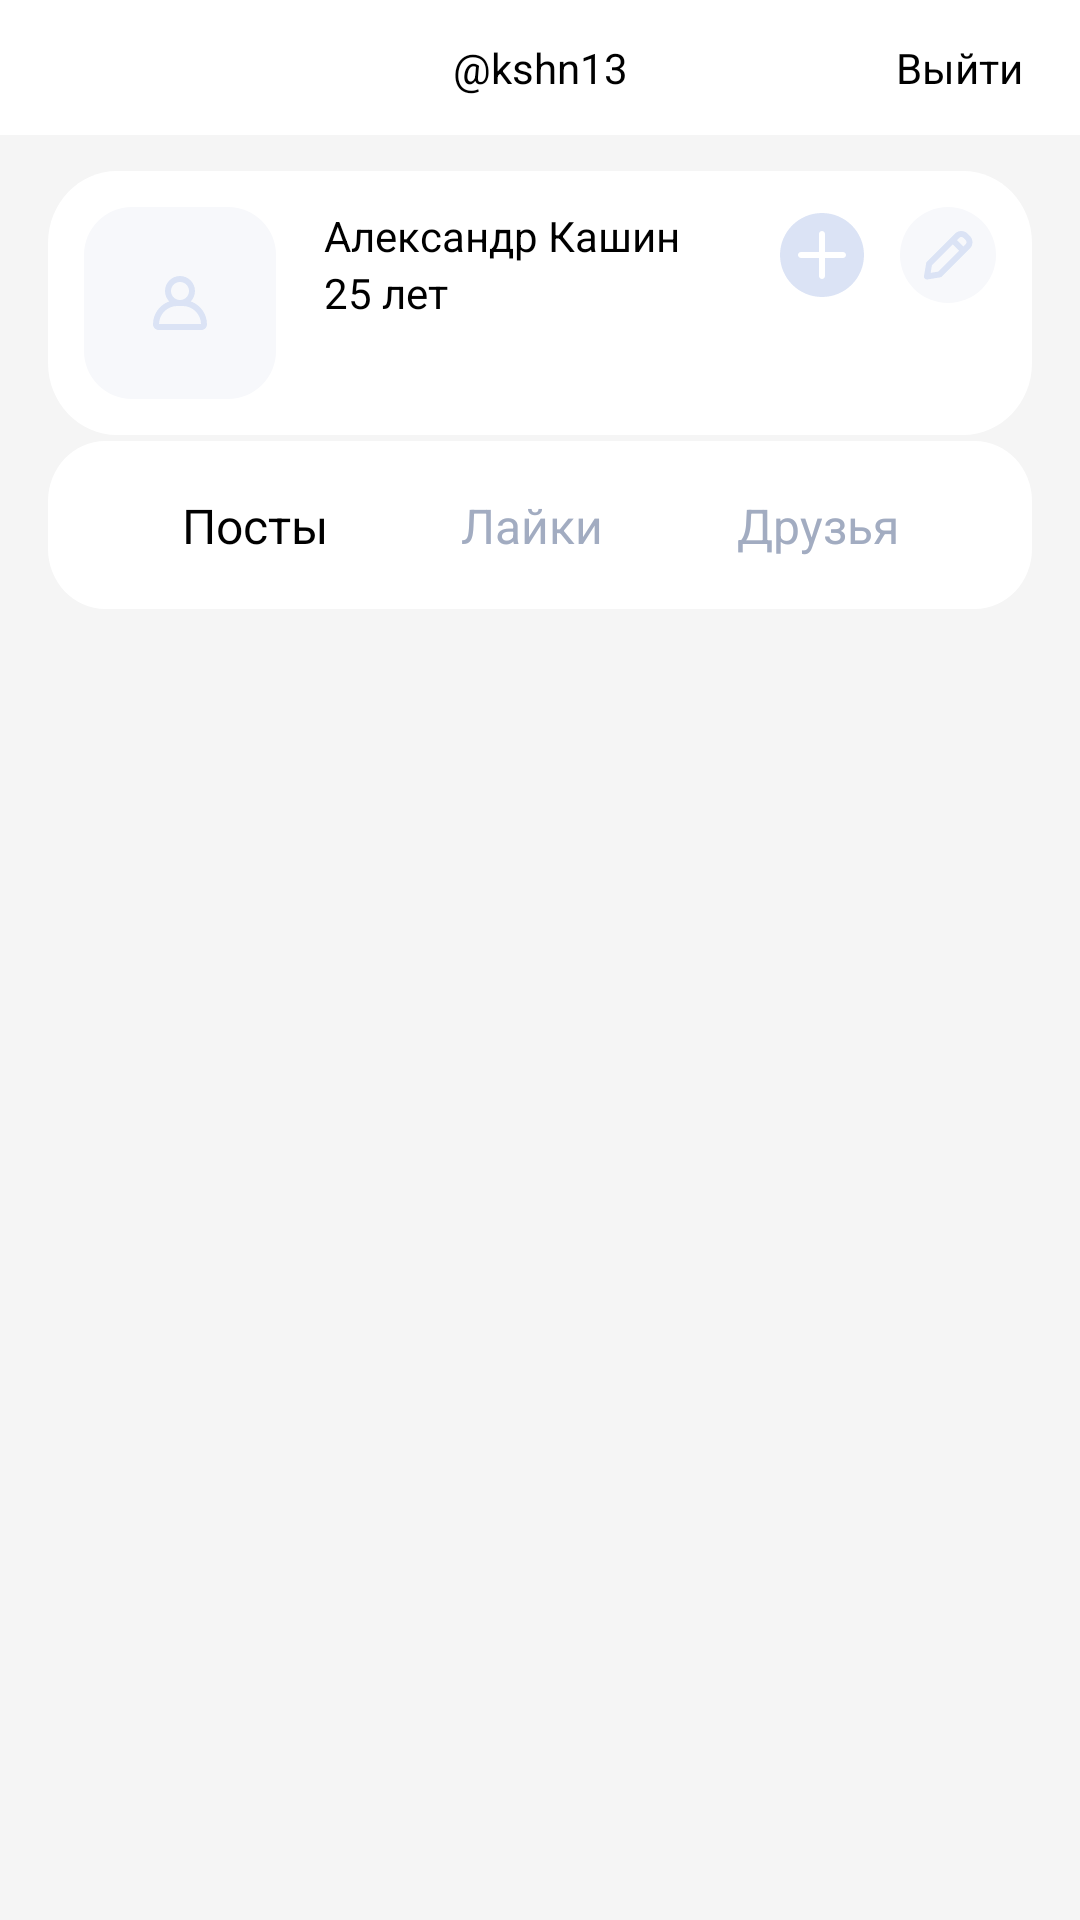

Where icons sit on this 1080w x 1920h app screen, as bbox(x1, y1, x2, y2):
add: bbox(780, 213, 864, 297)
edit profile: bbox(924, 231, 972, 279)
